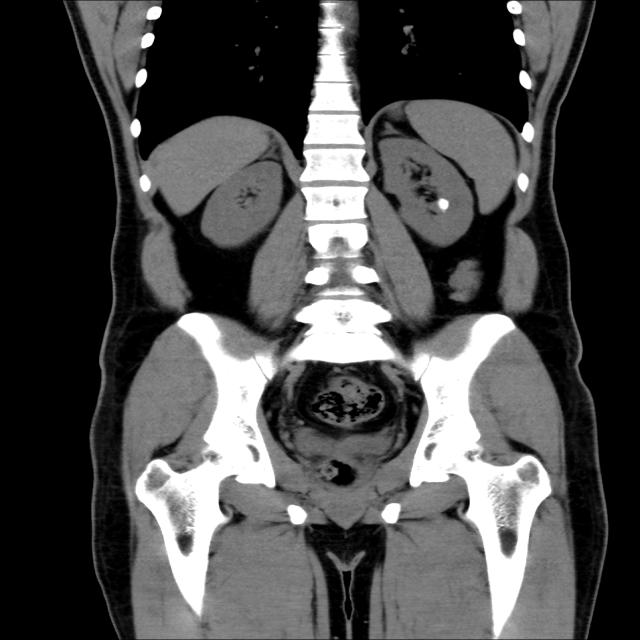kidneystone: (438, 199, 449, 211)
